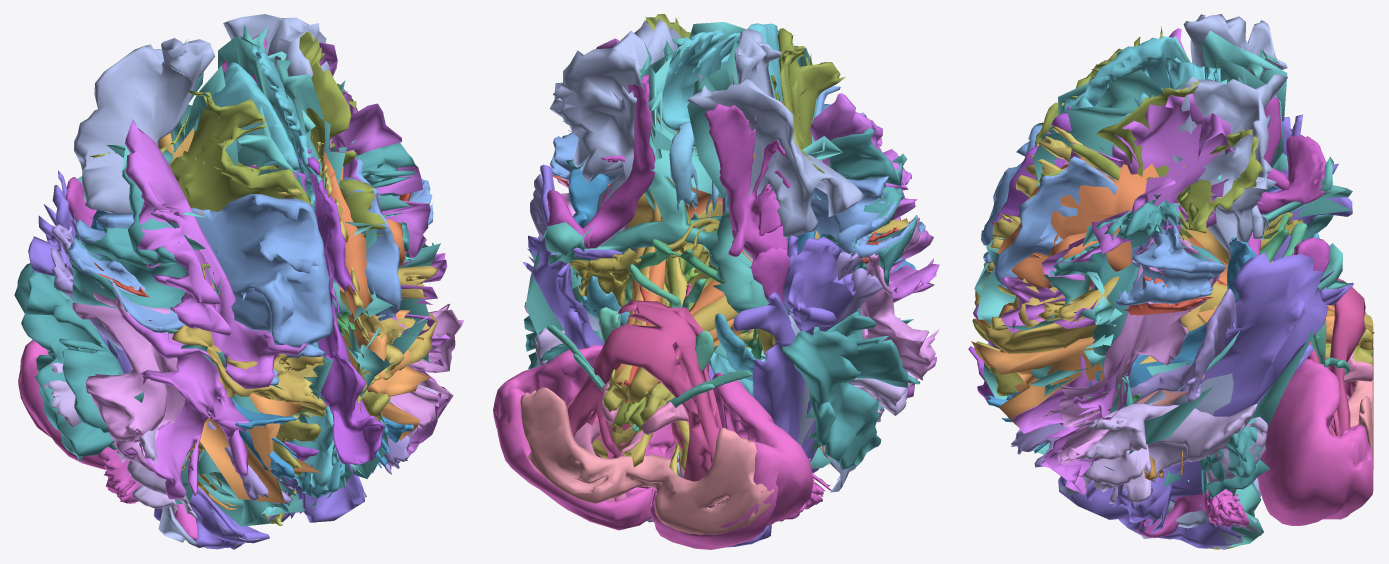
File: brain_tract.glb
The picture shows the model from 3 angles, left to right: view 1: azimuth 30°, elevation 25°; view 2: azimuth 150°, elevation 25°; view 3: azimuth 270°, elevation 25°; orthographic projection.
Visible parts, largest first — view 1: Tract-SLF2_L, Tract-FAT_L, Tract-CC, Tract-AF_L, Tract-IFOF_L, Tract-SLF3_L, Tract-RST_L, Tract-SLF1_R, Tract-SLF2_R, Tract-ILF_L, Tract-RST_R, Tract-C_FP_R (+23 smaller); view 2: Tract-V, Tract-AF_L, Tract-IFOF_L, Tract-MCP, Tract-IFOF_R, Tract-ILF_L, Tract-CB_R, Tract-CC, Tract-CB_L, Tract-UF_L, Tract-AC, Tract-UF_R (+35 smaller); view 3: Tract-ILF_R, Tract-CC, Tract-SLF2_R, Tract-CB_R, Tract-IFOF_R, Tract-FAT_R, Tract-PAT_R, Tract-AF_R, Tract-SLF3_R, Tract-CPT_F_R, Tract-RST_R, Tract-CST_R (+22 smaller).
Boxes of the visible parts, x1,y1,x2,y2 form: Tract-SLF2_L: [122, 119, 307, 499]; Tract-FAT_L: [67, 194, 333, 385]; Tract-CC: [53, 36, 443, 526]; Tract-AF_L: [14, 169, 188, 462]; Tract-IFOF_L: [74, 38, 262, 546]; Tract-SLF3_L: [68, 255, 185, 471]; Tract-RST_L: [89, 90, 311, 279]; Tract-SLF1_R: [300, 148, 384, 465]; Tract-SLF2_R: [319, 42, 453, 463]; Tract-ILF_L: [28, 170, 269, 549]; Tract-RST_R: [299, 32, 396, 237]; Tract-C_FP_R: [250, 43, 342, 487]; Tract-V: [520, 387, 773, 534]; Tract-AF_L: [782, 128, 920, 470]; Tract-IFOF_L: [687, 28, 864, 492]; Tract-MCP: [566, 300, 727, 502]; Tract-IFOF_R: [550, 19, 680, 522]; Tract-ILF_L: [727, 235, 855, 547]; Tract-CB_R: [493, 345, 678, 530]; Tract-CC: [525, 18, 913, 476]; Tract-CB_L: [650, 372, 812, 549]; Tract-UF_L: [704, 103, 790, 304]; Tract-AC: [544, 42, 769, 454]; Tract-UF_R: [546, 64, 655, 248]; Tract-ILF_R: [1058, 251, 1353, 548]; Tract-CC: [974, 30, 1351, 506]; Tract-SLF2_R: [1000, 93, 1238, 495]; Tract-CB_R: [1257, 359, 1373, 525]; Tract-IFOF_R: [1058, 74, 1287, 549]; Tract-FAT_R: [993, 156, 1225, 306]; Tract-PAT_R: [1080, 402, 1267, 504]; Tract-AF_R: [1048, 194, 1270, 498]; Tract-SLF3_R: [1030, 234, 1220, 464]; Tract-CPT_F_R: [997, 147, 1228, 288]; Tract-RST_R: [1026, 81, 1262, 240]; Tract-CST_R: [973, 276, 1373, 353].
Bounding box in the file's own units: 136 × 180 × 132.
